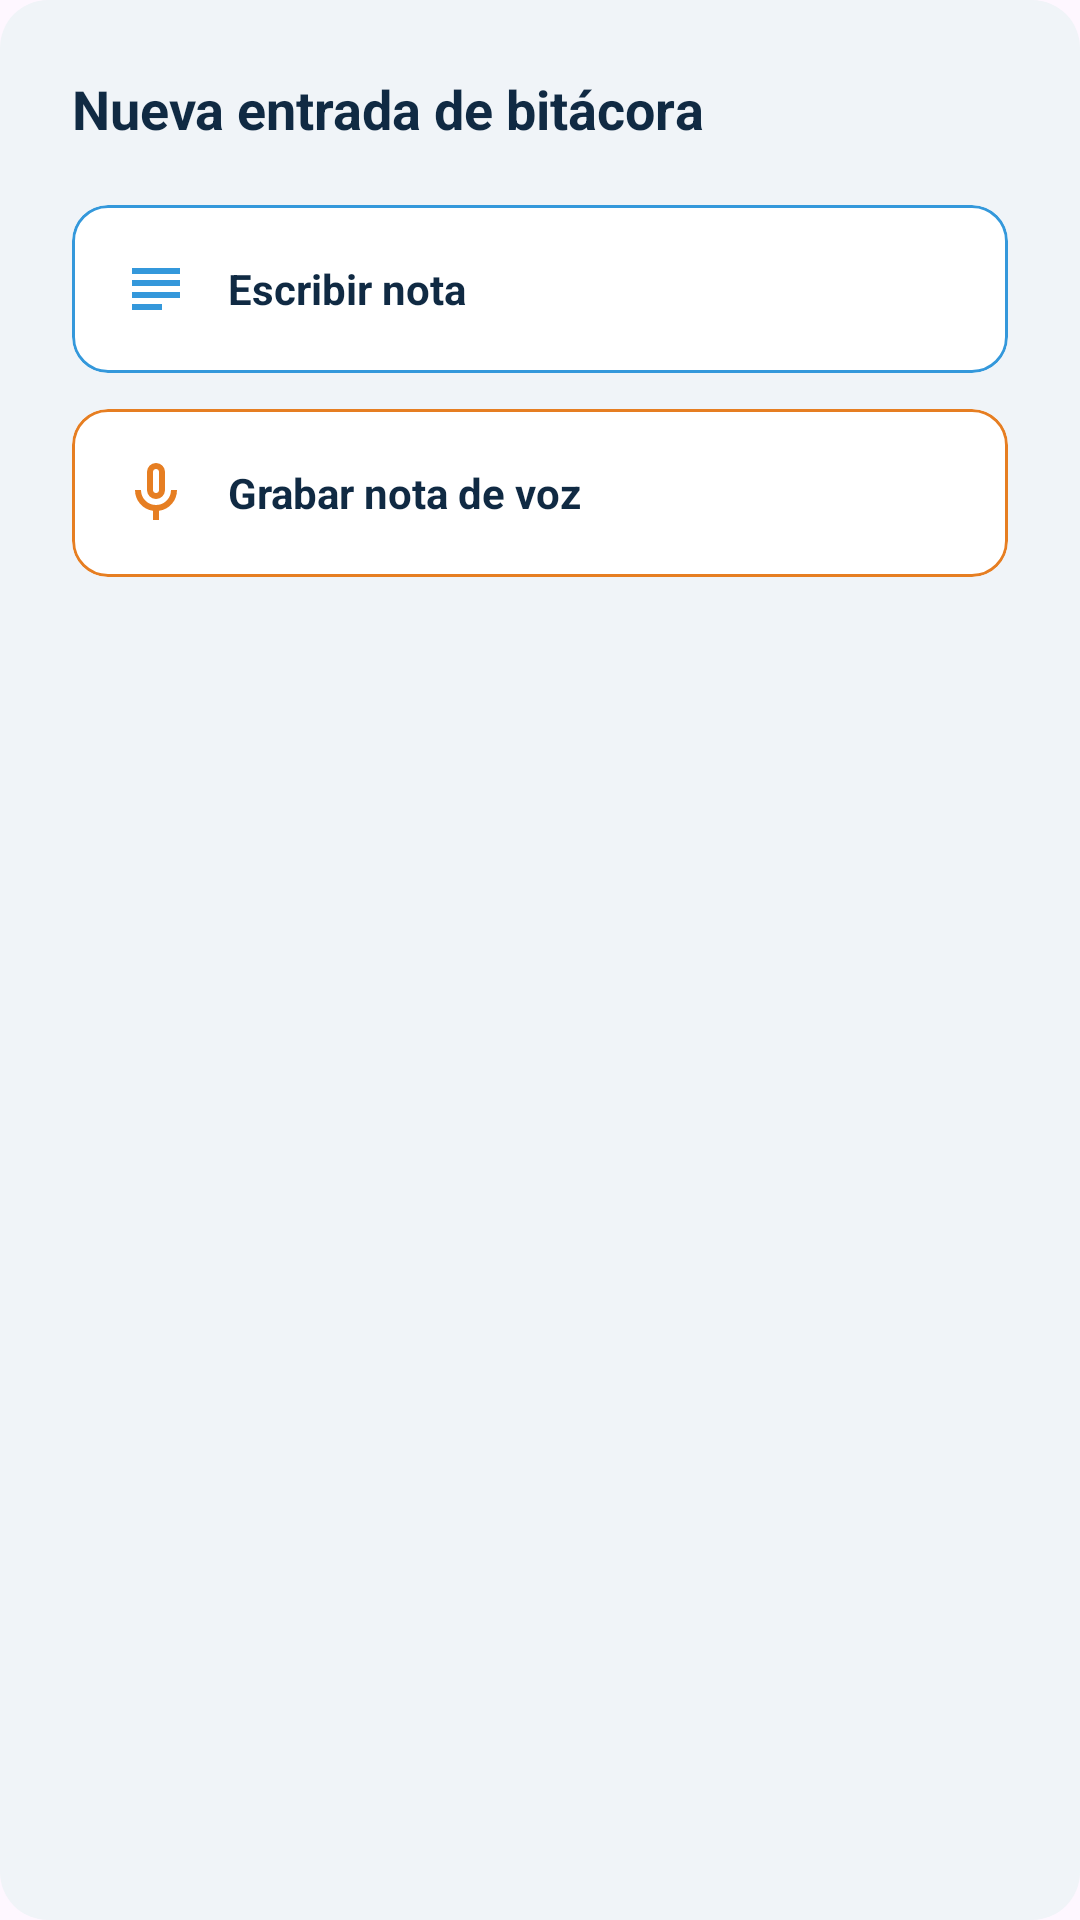

Icon bounding boxes for this 1080px×1920px phone screenshot, format (x1, y1, x2, y2):
mic: (135, 463, 177, 520)
texto: (132, 268, 180, 310)
